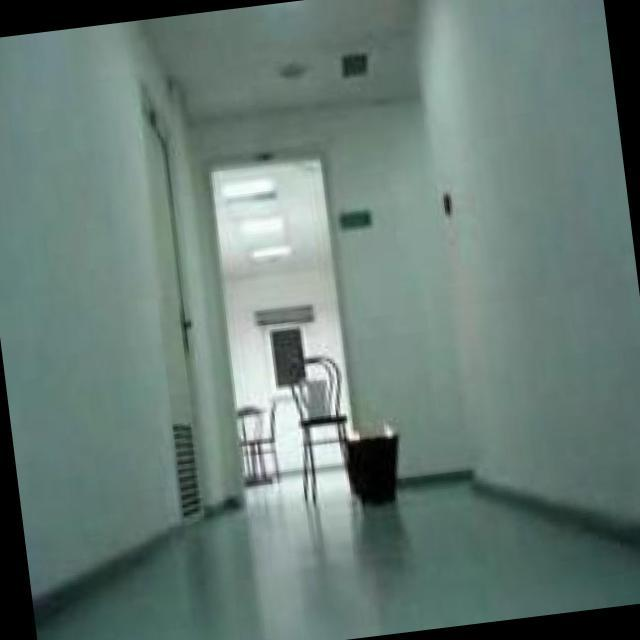Fire: (341, 423, 402, 444)
